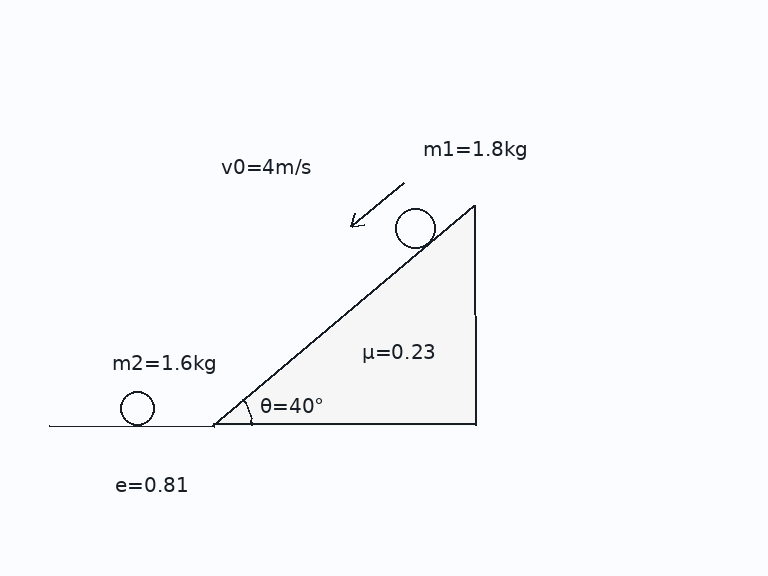ball: (393, 206, 437, 250), (118, 389, 156, 427)
ramp: (210, 203, 477, 427)
